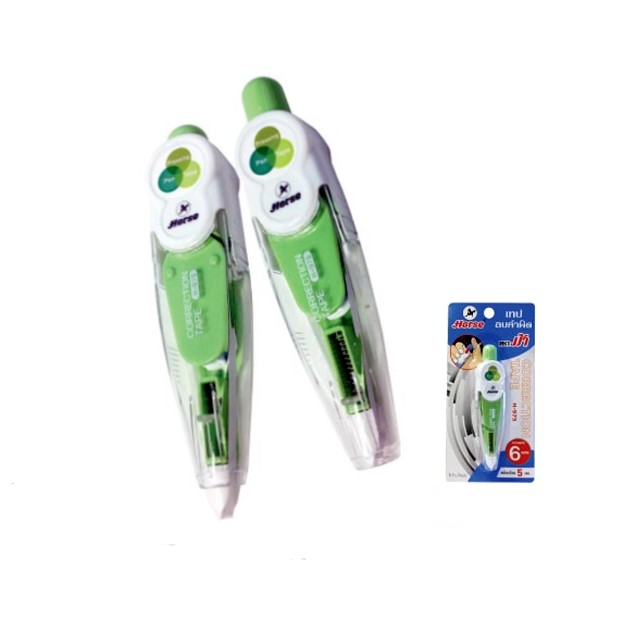Correction_fluid: (234, 73, 408, 477), (140, 117, 255, 523), (469, 337, 509, 474)
